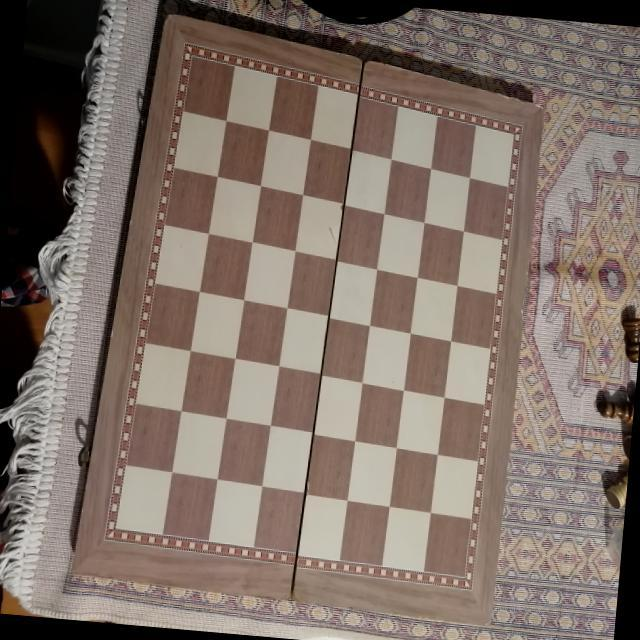corners: (530, 98, 557, 128), (477, 609, 502, 636), (64, 562, 88, 588), (162, 8, 188, 26)
